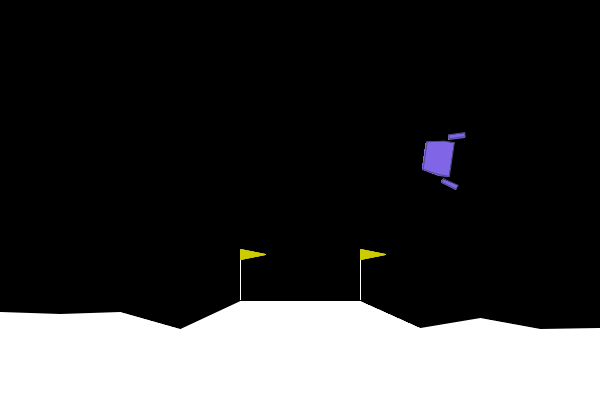lander: (418, 126, 466, 191)
